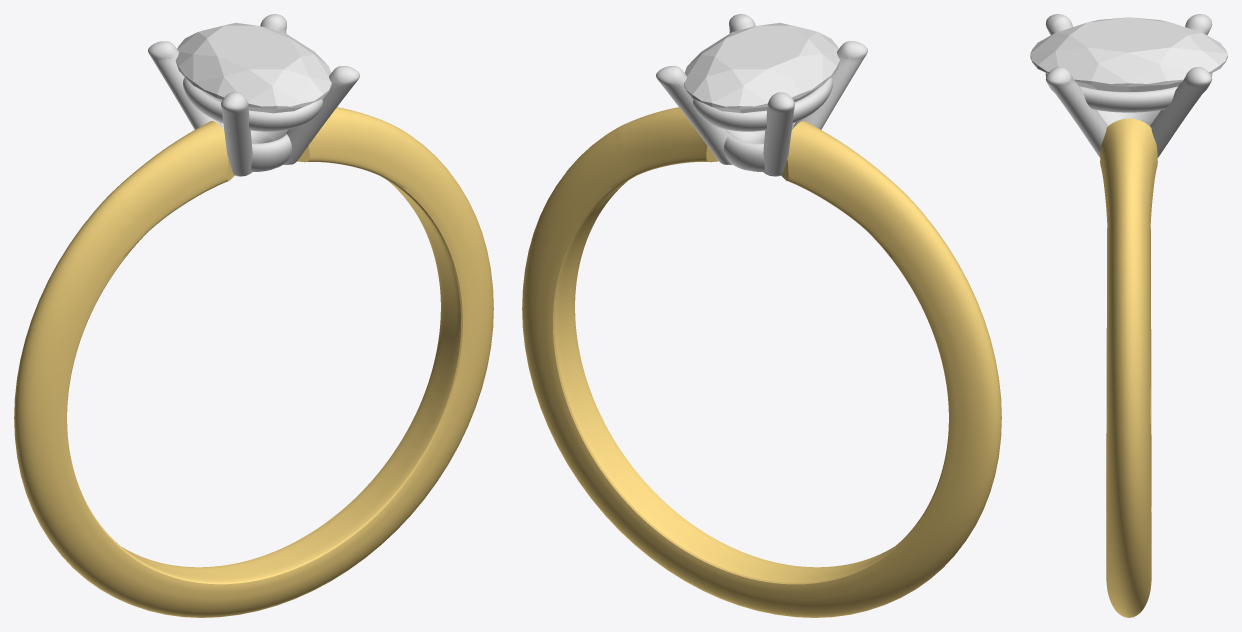
File: ChrisRohrs_TaperBand.glb
3 views of the same model, side by side, from view 1: azimuth 30°, elevation 25°; view 2: azimuth 150°, elevation 25°; view 3: azimuth 270°, elevation 25° (orthographic).
Parts seen in each view (by area): view 1: Chris YG taper for 3d model, Chris dia for 3d model, Chris PT for 3d model; view 2: Chris YG taper for 3d model, Chris dia for 3d model, Chris PT for 3d model; view 3: Chris YG taper for 3d model, Chris dia for 3d model, Chris PT for 3d model.
Boxes of the visible parts, x1,y1,x2,y2 form: Chris YG taper for 3d model: (14,107,493,617); Chris dia for 3d model: (175,22,331,113); Chris PT for 3d model: (148,14,359,176); Chris YG taper for 3d model: (522,107,1001,617); Chris dia for 3d model: (684,22,840,113); Chris PT for 3d model: (656,14,867,176); Chris YG taper for 3d model: (1100,118,1157,617); Chris dia for 3d model: (1030,17,1227,91); Chris PT for 3d model: (1045,14,1212,157).
Size of the model in its own units: 21.54 by 24.3 by 7.8.
